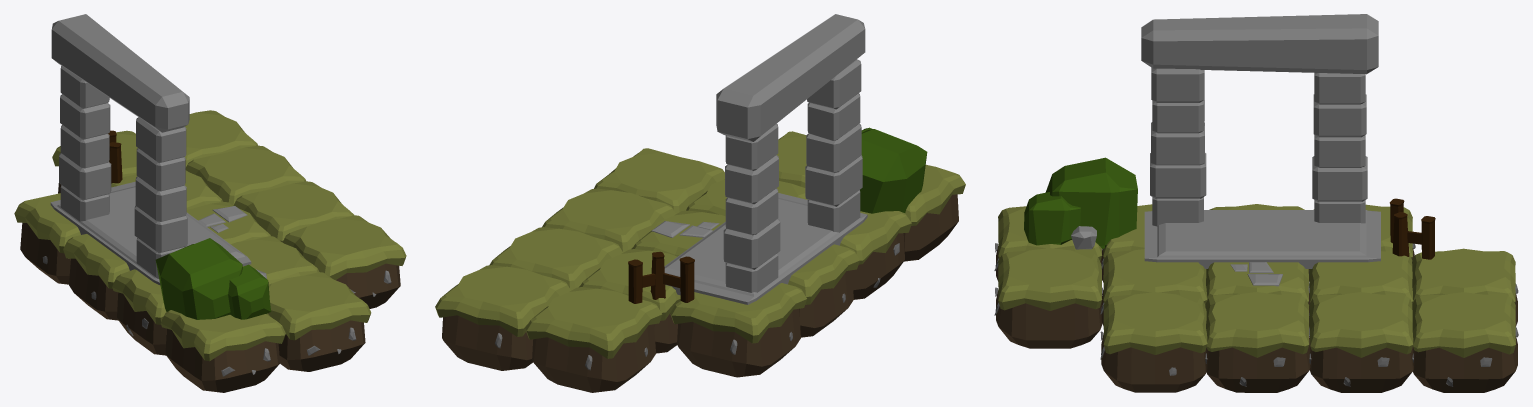
Rendered from portal-platform.fbx.
The picture shows the model from 3 angles, left to right: view 1: azimuth 30°, elevation 25°; view 2: azimuth 150°, elevation 25°; view 3: azimuth 270°, elevation 25°; orthographic projection. The views are drawn at different scales.
Parts seen in each view (by area): view 1: Plane.003; view 2: Plane.003; view 3: Plane.003.
Part boxes in pixels (x1,y1,x2,y2): Plane.003: [14, 14, 406, 392]; Plane.003: [435, 14, 965, 392]; Plane.003: [994, 14, 1518, 392].
Bounding box in the file's own units: 14.26 × 13.49 × 24.02.
